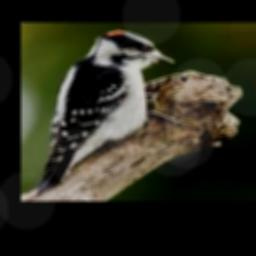Woodpecker: (27, 29, 186, 195)
